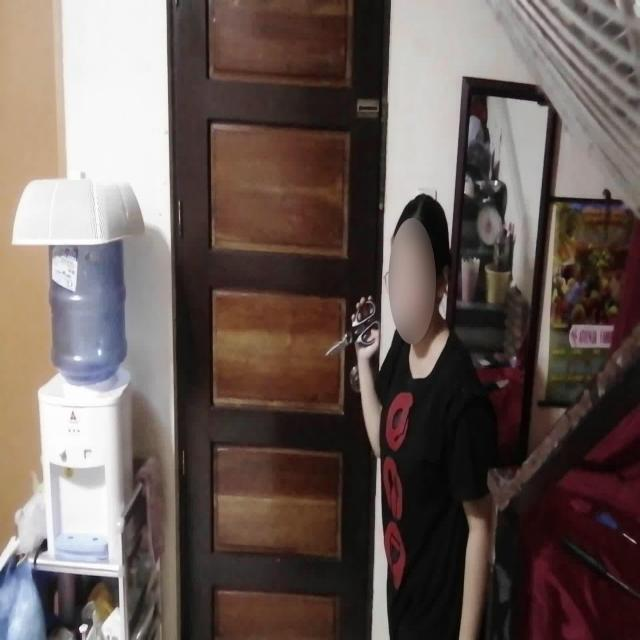scissor: (325, 296, 381, 356)
